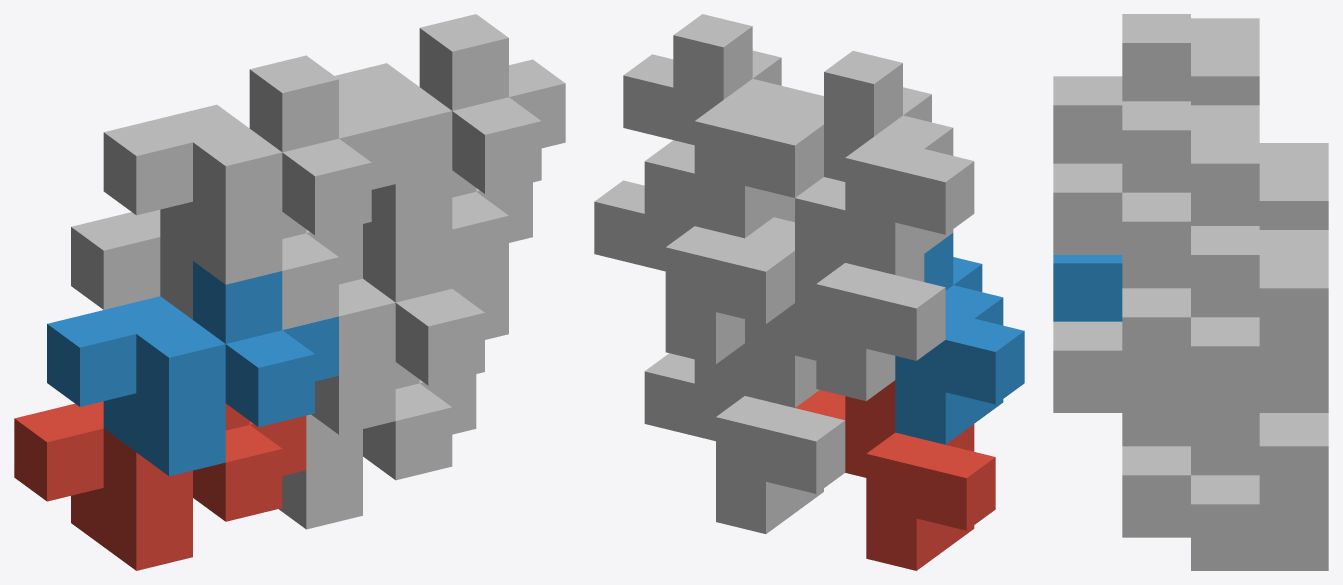
File: tiling.obj
3 renders of one model, left to right at view 1: azimuth 30°, elevation 25°; view 2: azimuth 150°, elevation 25°; view 3: azimuth 270°, elevation 25°, orthographic. The views are drawn at different scales.
Visible parts, largest first — view 1: copy_1_domain_4, copy_1_domain_2, copy_1_domain_8, copy_1_domain_1, copy_1_domain_6, copy_1_domain_3, copy_1_domain_5, copy_1_domain_7; view 2: copy_1_domain_8, copy_1_domain_4, copy_1_domain_7, copy_1_domain_5, copy_1_domain_3, copy_1_domain_1, copy_1_domain_2, copy_1_domain_6; view 3: copy_1_domain_7, copy_1_domain_5, copy_1_domain_8, copy_1_domain_4, copy_1_domain_6, copy_1_domain_3, copy_1_domain_2.
Boxes of the visible parts, x1=… form: copy_1_domain_4: x1=103, y1=55, x2=395, y2=284; copy_1_domain_2: x1=47, y1=261, x2=338, y2=476; copy_1_domain_8: x1=335, y1=14, x2=565, y2=243; copy_1_domain_1: x1=14, y1=401, x2=306, y2=570; copy_1_domain_6: x1=311, y1=223, x2=508, y2=434; copy_1_domain_3: x1=71, y1=209, x2=362, y2=329; copy_1_domain_5: x1=279, y1=362, x2=476, y2=529; copy_1_domain_7: x1=452, y1=170, x2=532, y2=288; copy_1_domain_8: x1=623, y1=14, x2=823, y2=238; copy_1_domain_4: x1=774, y1=51, x2=974, y2=274; copy_1_domain_7: x1=594, y1=140, x2=794, y2=364; copy_1_domain_5: x1=644, y1=343, x2=845, y2=533; copy_1_domain_3: x1=745, y1=177, x2=945, y2=401; copy_1_domain_1: x1=795, y1=380, x2=995, y2=570; copy_1_domain_2: x1=895, y1=233, x2=1024, y2=444; copy_1_domain_6: x1=745, y1=202, x2=819, y2=407; copy_1_domain_7: x1=1122, y1=226, x2=1328, y2=412; copy_1_domain_5: x1=1122, y1=413, x2=1328, y2=570; copy_1_domain_8: x1=1053, y1=101, x2=1259, y2=288; copy_1_domain_4: x1=1053, y1=14, x2=1259, y2=163; copy_1_domain_6: x1=1053, y1=321, x2=1190, y2=446; copy_1_domain_3: x1=1259, y1=143, x2=1328, y2=229; copy_1_domain_2: x1=1053, y1=255, x2=1122, y2=321.
Bounding box in the file's own units: 8 × 8 × 4.
